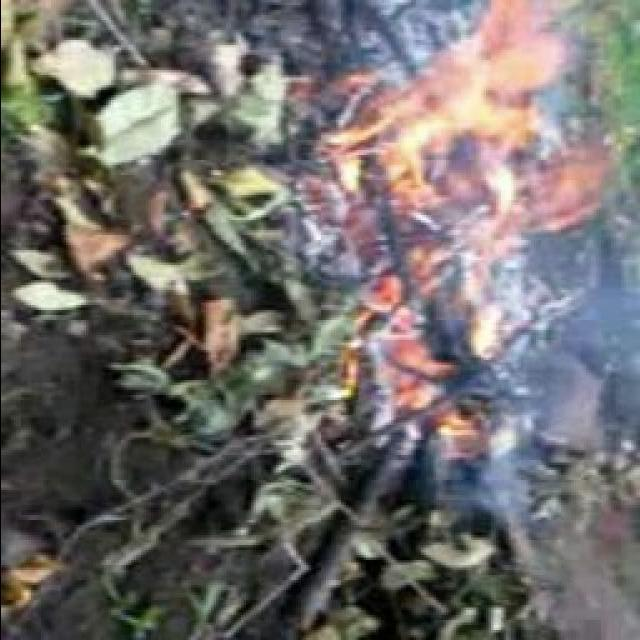Fire: (332, 16, 618, 456)
